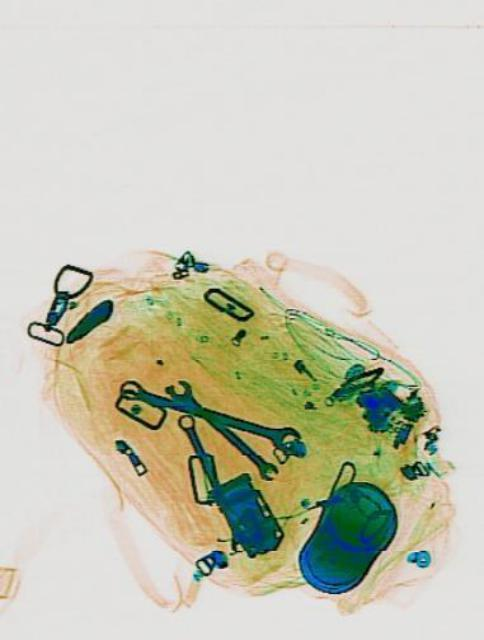Wrench: (116, 370, 299, 456), (162, 368, 278, 488), (173, 407, 249, 557)
